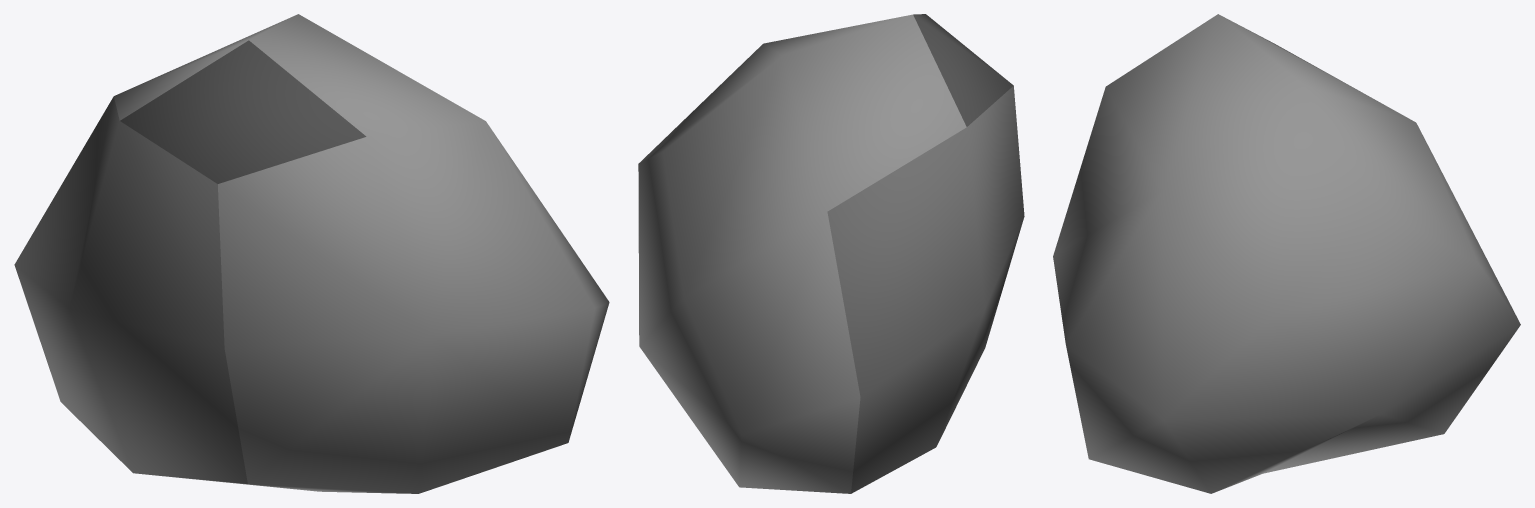
Rendered from rock_05.fbx.
3 renders of one model, left to right at view 1: azimuth 30°, elevation 25°; view 2: azimuth 150°, elevation 25°; view 3: azimuth 270°, elevation 25°, orthographic. The views are drawn at different scales.
Visible parts, largest first — view 1: rock_05; view 2: rock_05; view 3: rock_05.
Part boxes in pixels (x1=…): rock_05: x1=14, y1=14, x2=609, y2=493; rock_05: x1=638, y1=14, x2=1024, y2=493; rock_05: x1=1053, y1=14, x2=1520, y2=493.
Size of the model in its own units: 44.14 by 45.39 by 45.89.
